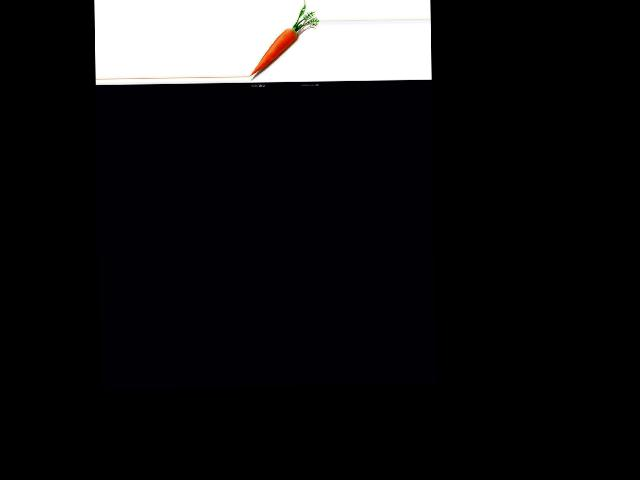carrot: (249, 14, 304, 77)
